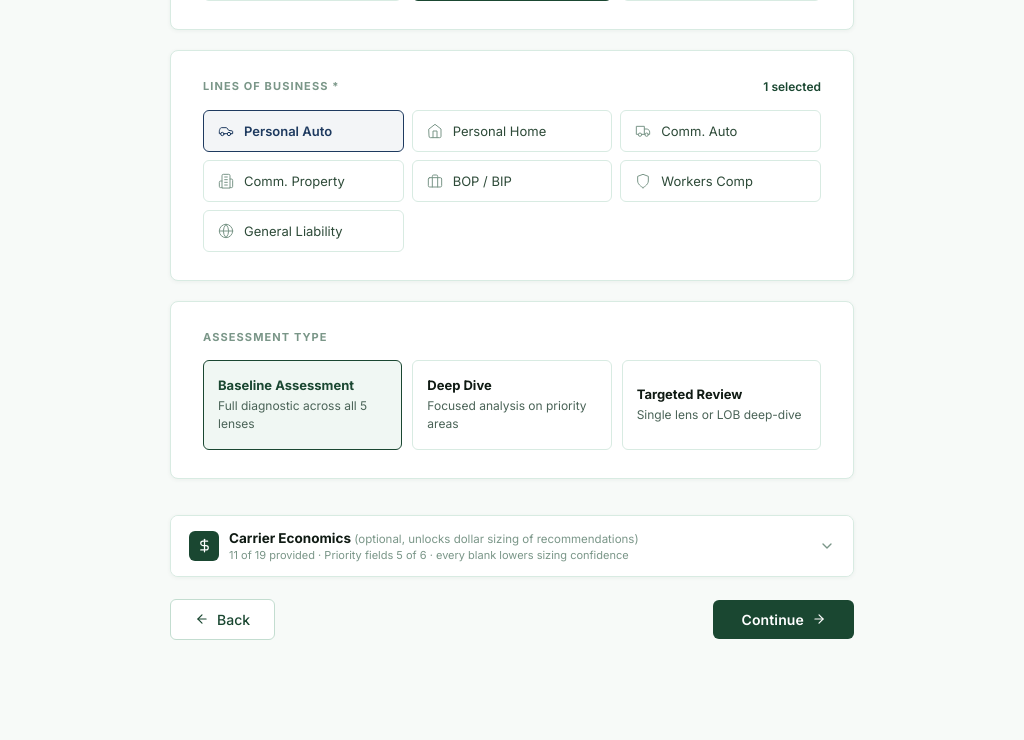
Scenario: Assessment flow pages render and primary buttons fire › Page2 Carrier renders economics section and Continue validates
The width and height of the screenshot is (1024, 740).
(page scrolled)
Expected: the text "Carrier Economics" is shown, left=229, top=530, right=354, bottom=546
Click the text "Carrier Economics".
click(434, 538)  # box left=229, top=530, right=639, bottom=546
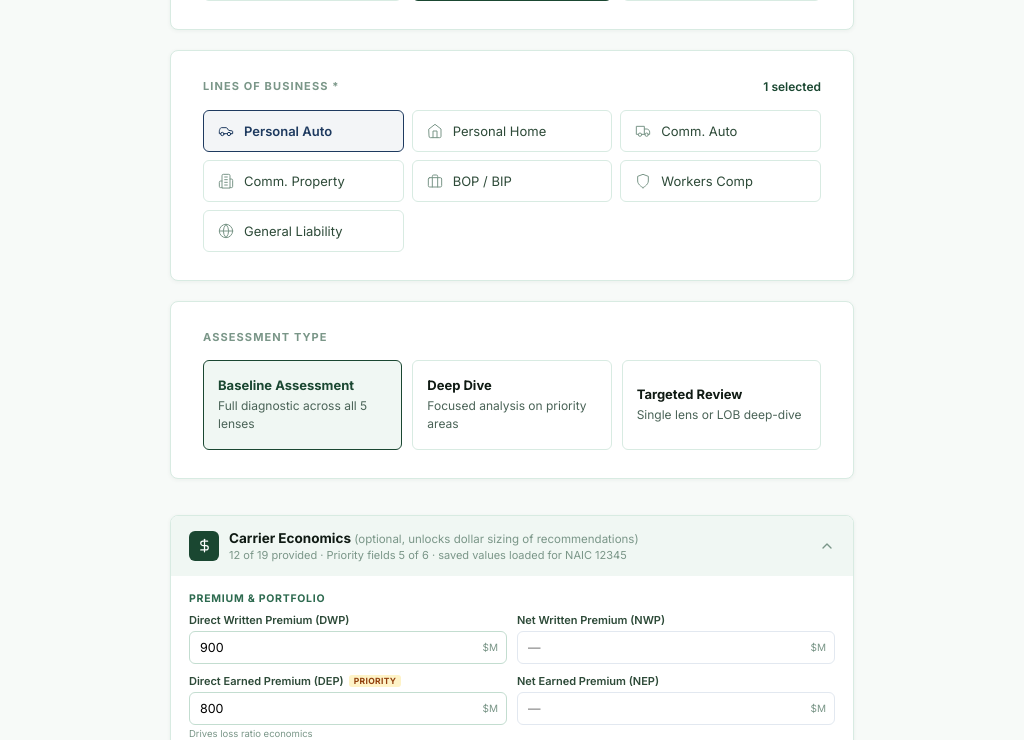
Result: the text "Direct Written Premium (DWP)" is shown at left=189, top=613, right=350, bottom=627
